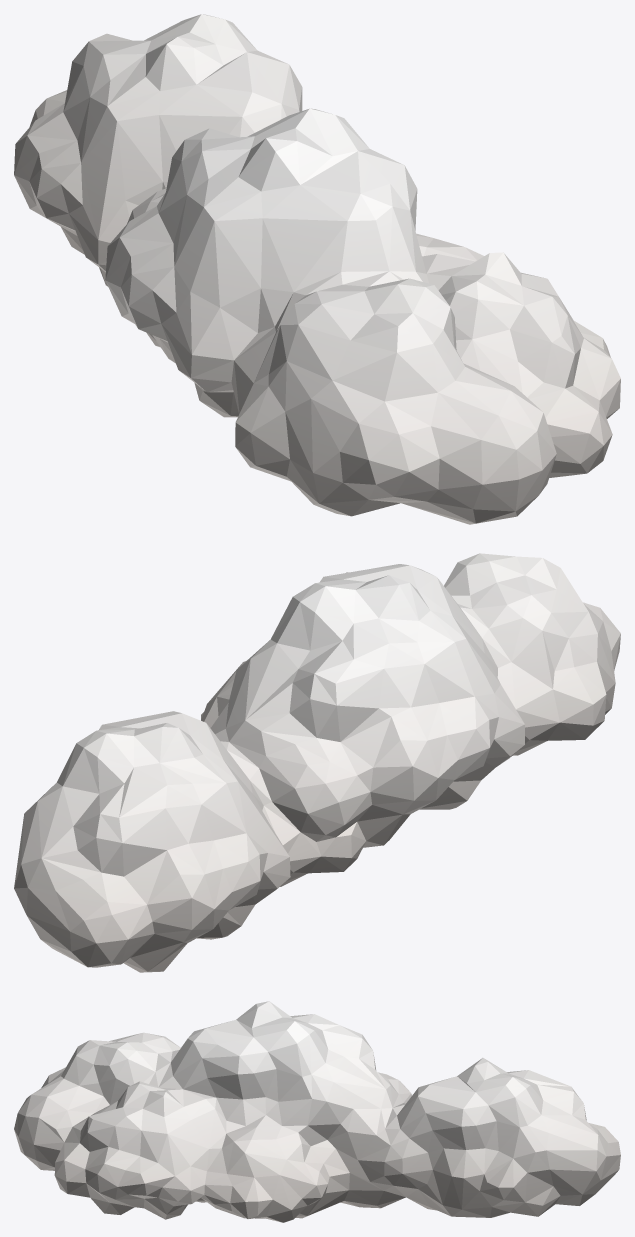
The model's file is Cloud2.fbx.
3 views of the same model, one above another, from view 1: azimuth 30°, elevation 25°; view 2: azimuth 150°, elevation 25°; view 3: azimuth 270°, elevation 25° (orthographic). The views are drawn at different scales.
Visible parts, largest first — view 1: Mball.002; view 2: Mball.002; view 3: Mball.002.
Boxes of the visible parts, x1,y1,x2,y2 form: Mball.002: [14, 14, 620, 524]; Mball.002: [14, 553, 620, 972]; Mball.002: [14, 1001, 620, 1222].
Bounding box in the file's own units: 9.01 × 21.37 × 7.04.
